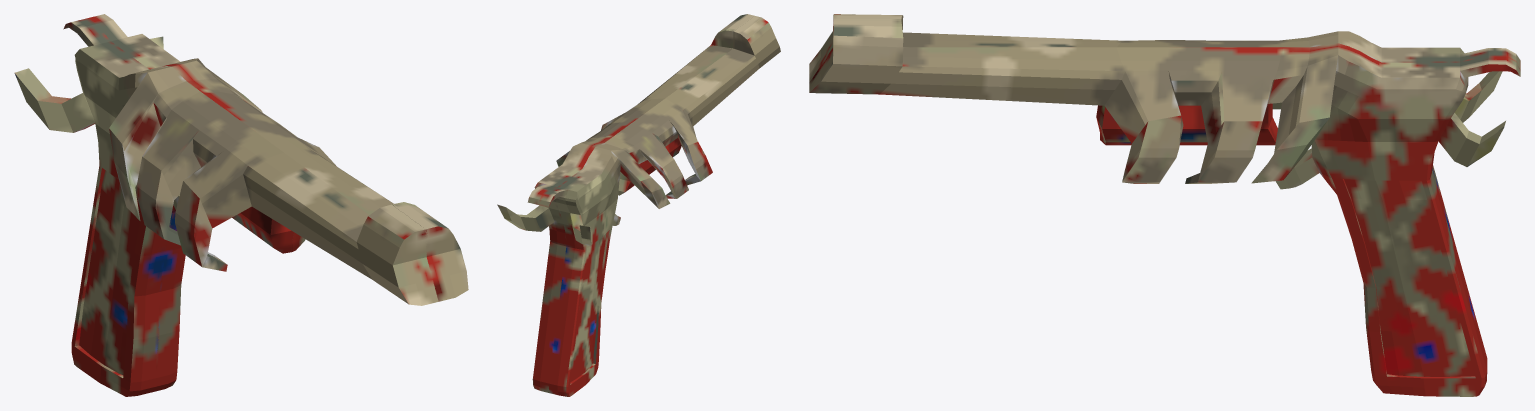
File: slaughterer.obj
3 renders of one model, left to right at view 1: azimuth 30°, elevation 25°; view 2: azimuth 150°, elevation 25°; view 3: azimuth 270°, elevation 25°, orthographic. The views are drawn at different scales.
Visible parts, largest first — view 1: Куб; view 2: Куб; view 3: Куб.
Boxes of the visible parts, x1,y1,x2,y2 form: Куб: (14, 14, 468, 396); Куб: (497, 14, 780, 396); Куб: (809, 14, 1520, 396).
Bounding box in the file's own units: 2.32 × 5.15 × 9.14.
1 material, 1 textured.
